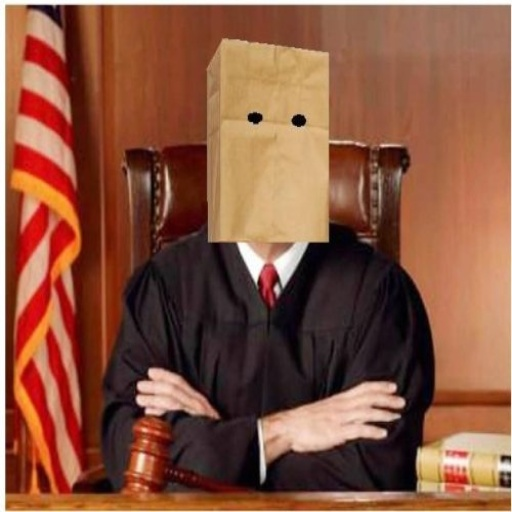hand: (252, 370, 393, 468), (133, 367, 221, 419)
